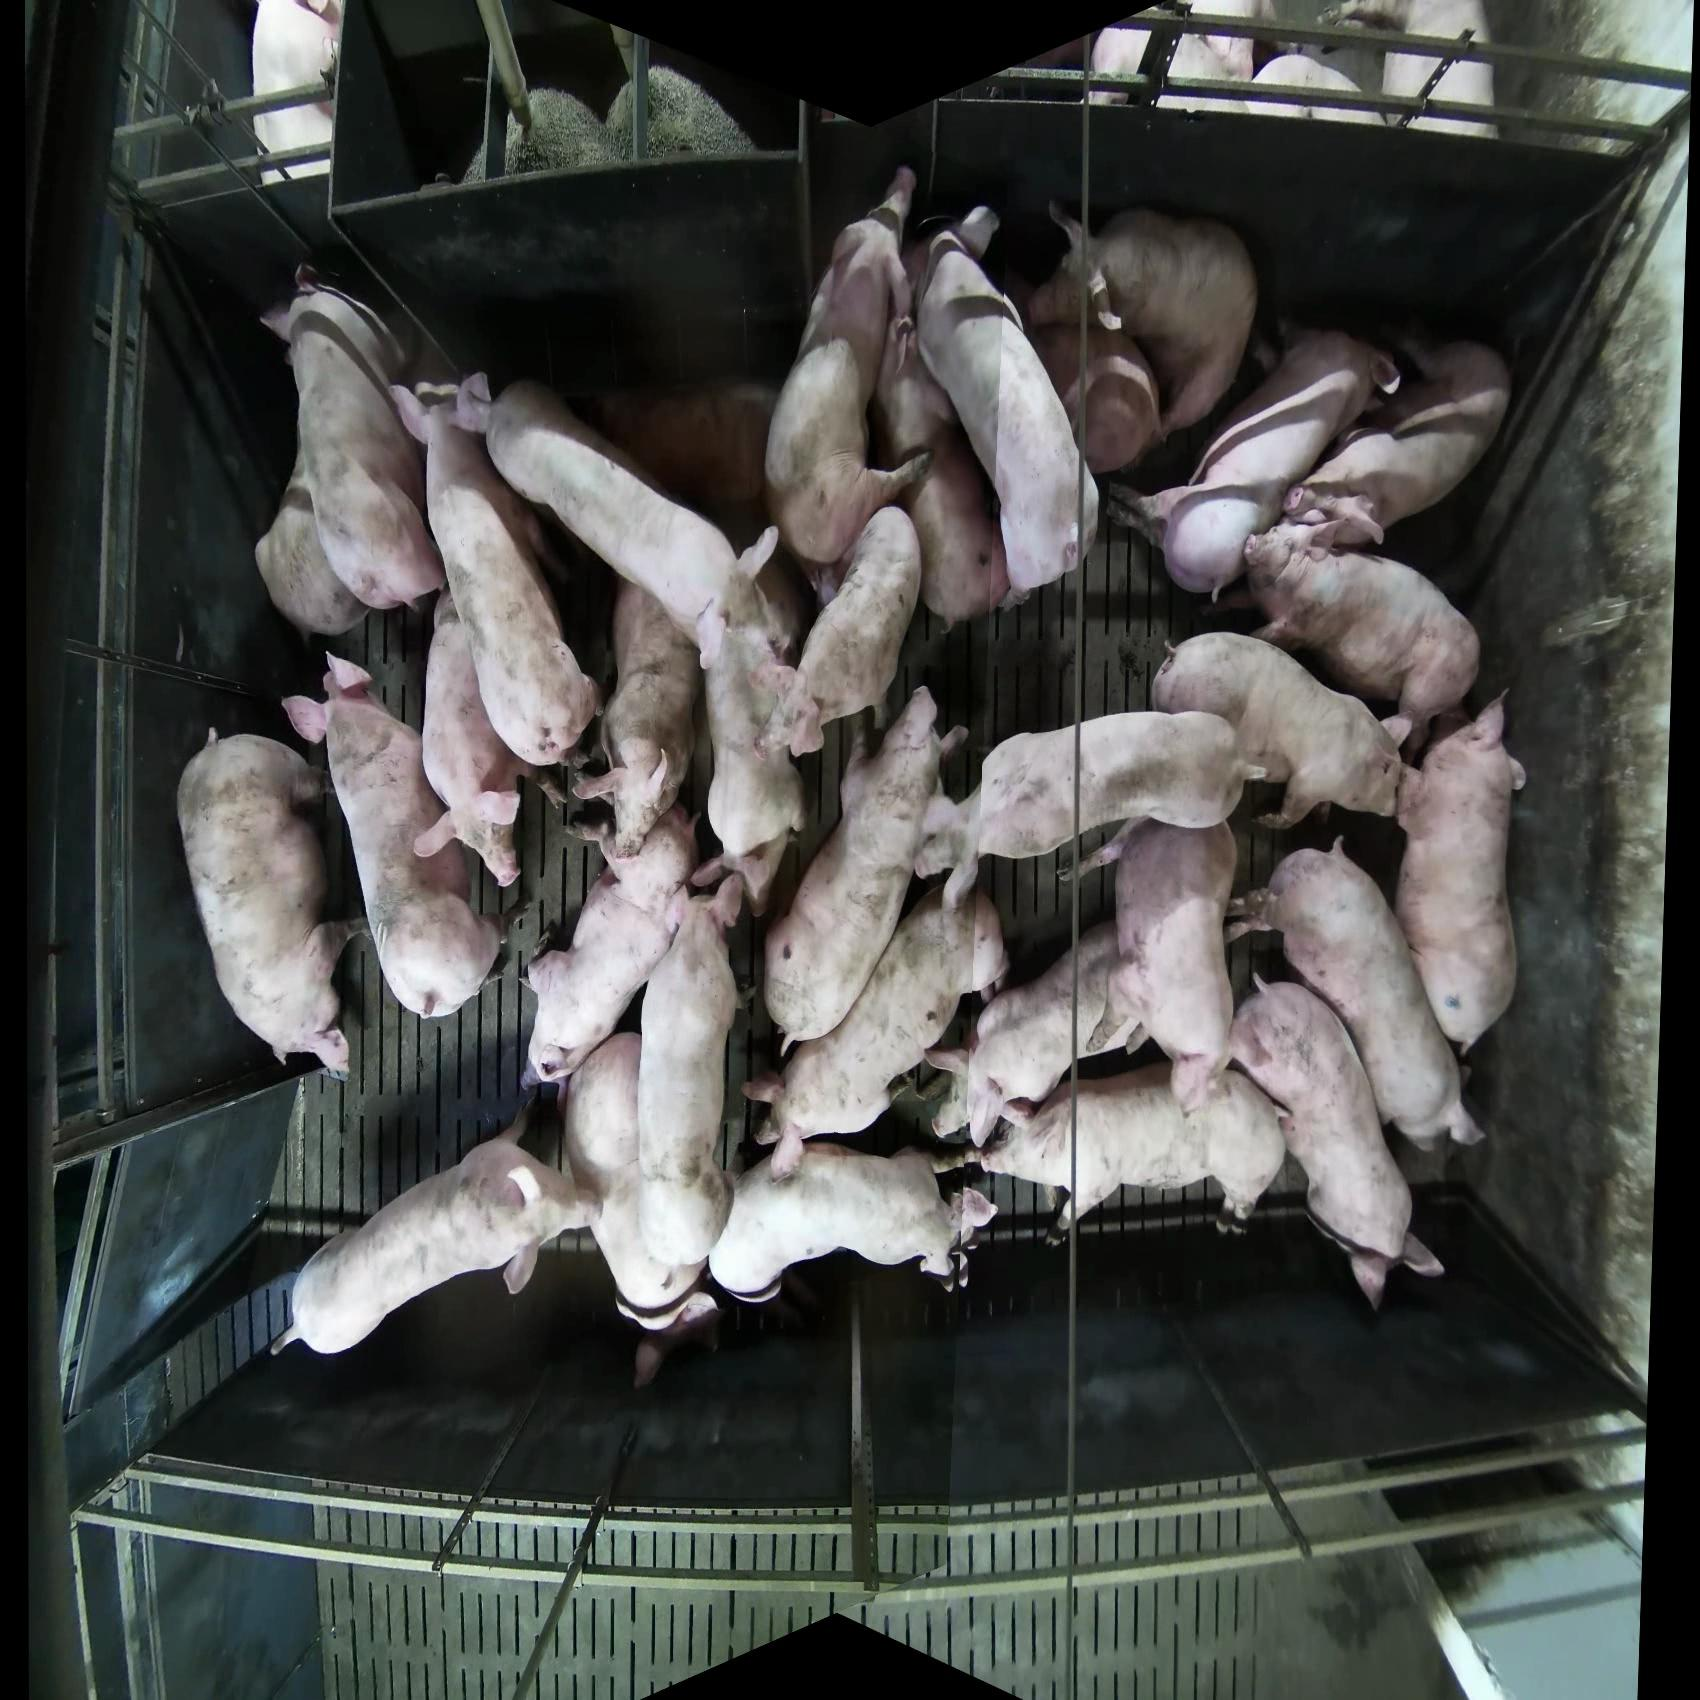pig: (269, 1098, 596, 1359), (389, 374, 604, 771), (282, 651, 509, 1021), (1227, 838, 1485, 1154), (1108, 325, 1403, 602), (744, 876, 1009, 1178), (908, 207, 1102, 607), (761, 687, 968, 1059), (1227, 970, 1446, 1312), (481, 377, 744, 654), (528, 501, 733, 855), (761, 167, 928, 602), (831, 265, 1031, 629), (254, 274, 445, 637), (174, 729, 363, 1084), (933, 707, 1255, 909), (1029, 198, 1259, 475), (1241, 515, 1484, 767), (978, 1059, 1287, 1238), (1281, 318, 1513, 550), (1150, 630, 1412, 833), (518, 799, 701, 1088), (925, 918, 1144, 1150), (1076, 813, 1241, 1115), (1393, 688, 1529, 1055), (708, 1138, 999, 1305), (752, 504, 928, 758), (578, 1041, 711, 1334), (1336, 2, 1499, 140), (1087, 2, 1273, 111), (251, 2, 346, 185), (604, 64, 758, 163), (1244, 50, 1373, 125)
